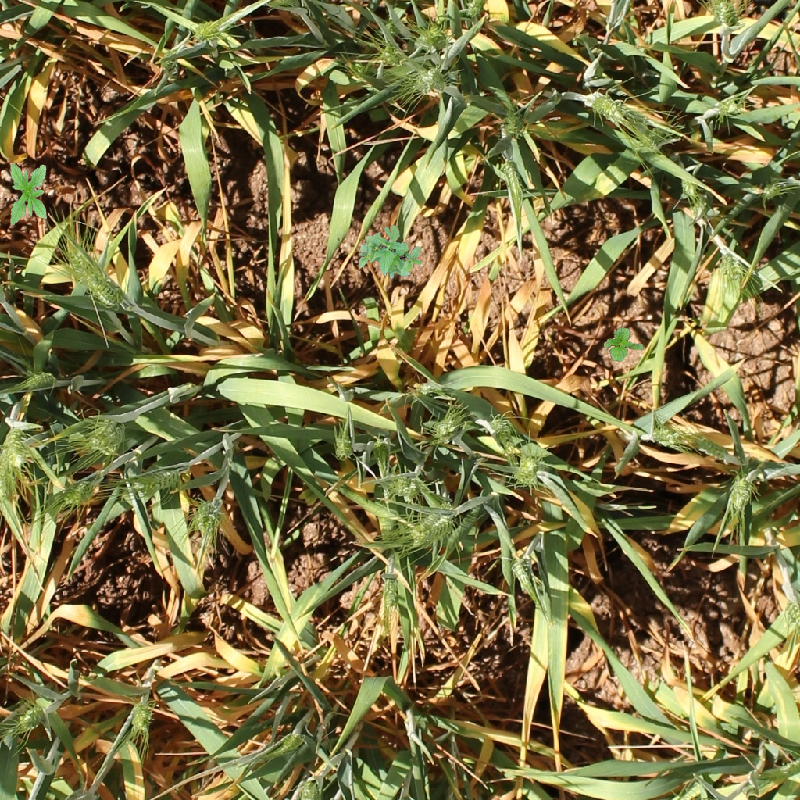spikelet: (73, 256, 129, 310), (131, 464, 184, 496), (86, 415, 125, 456), (1, 427, 38, 469), (408, 511, 455, 544), (582, 90, 627, 124), (187, 14, 234, 46), (86, 273, 127, 308), (486, 413, 521, 451), (192, 496, 223, 537), (379, 470, 420, 500), (15, 699, 50, 733), (691, 432, 732, 461), (412, 64, 449, 95), (726, 473, 754, 513), (430, 410, 465, 442), (510, 453, 543, 486), (510, 554, 535, 597), (129, 694, 153, 734), (415, 25, 451, 51), (706, 1, 738, 30), (718, 249, 744, 283), (58, 480, 92, 506), (648, 423, 682, 448), (22, 369, 58, 391), (498, 111, 526, 139), (156, 48, 181, 77), (292, 778, 319, 800), (460, 1, 487, 22), (714, 96, 740, 117)
weed: (359, 225, 421, 279), (10, 163, 47, 225), (604, 327, 644, 362)
